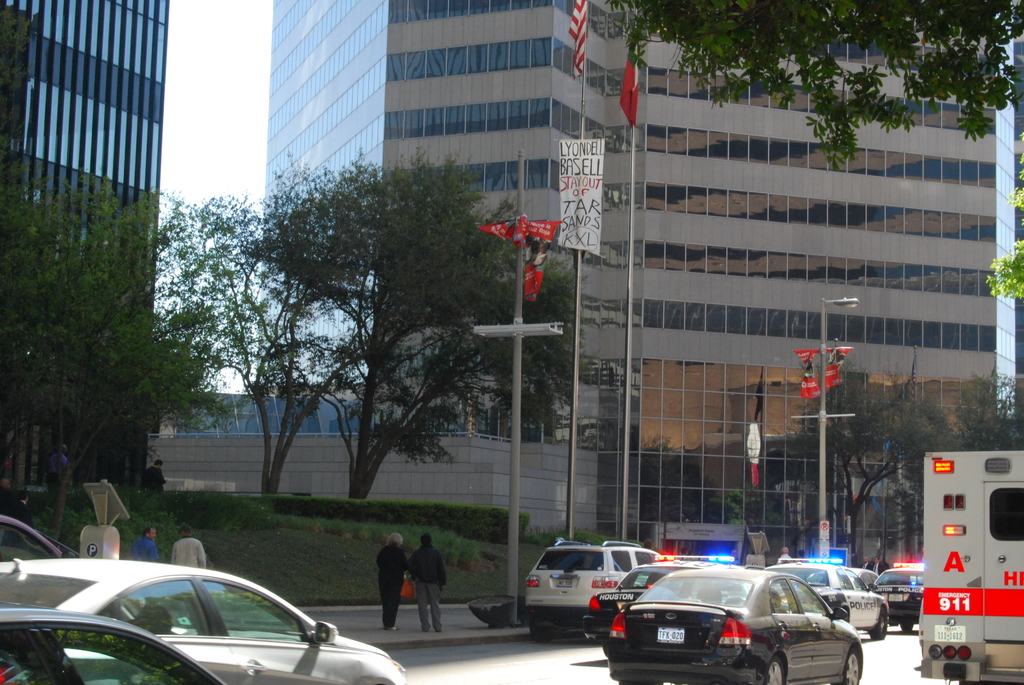Car: (520, 535, 924, 684), (0, 557, 405, 684), (0, 601, 223, 684), (0, 512, 80, 561)
